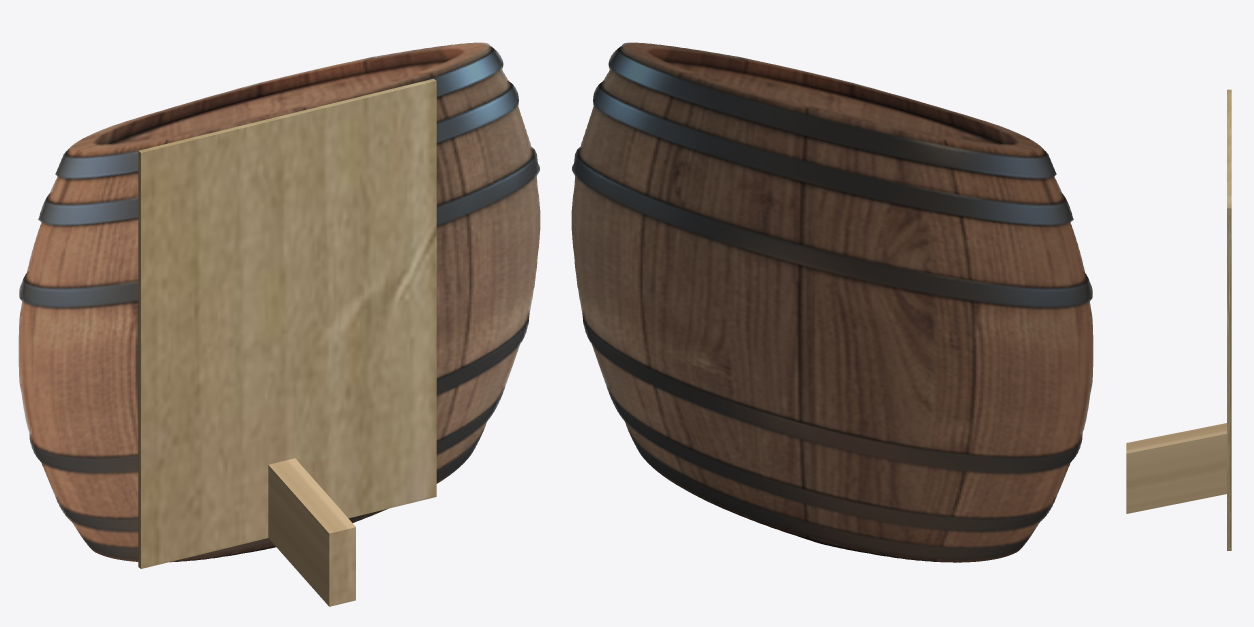
Rendered from Cutout-Barrel.fbx.
3 renders of one model, left to right at view 1: azimuth 30°, elevation 25°; view 2: azimuth 150°, elevation 25°; view 3: azimuth 270°, elevation 25°, orthographic. The views are drawn at different scales.
Visible parts, largest first — view 1: polySurface18; view 2: polySurface18; view 3: polySurface18.
Part boxes in pixels (x1,y1,x2,y2): polySurface18: [18, 42, 540, 606]; polySurface18: [571, 42, 1093, 562]; polySurface18: [1126, 89, 1231, 550].
Size of the model in its own units: 7.93 by 6.82 by 1.79.
